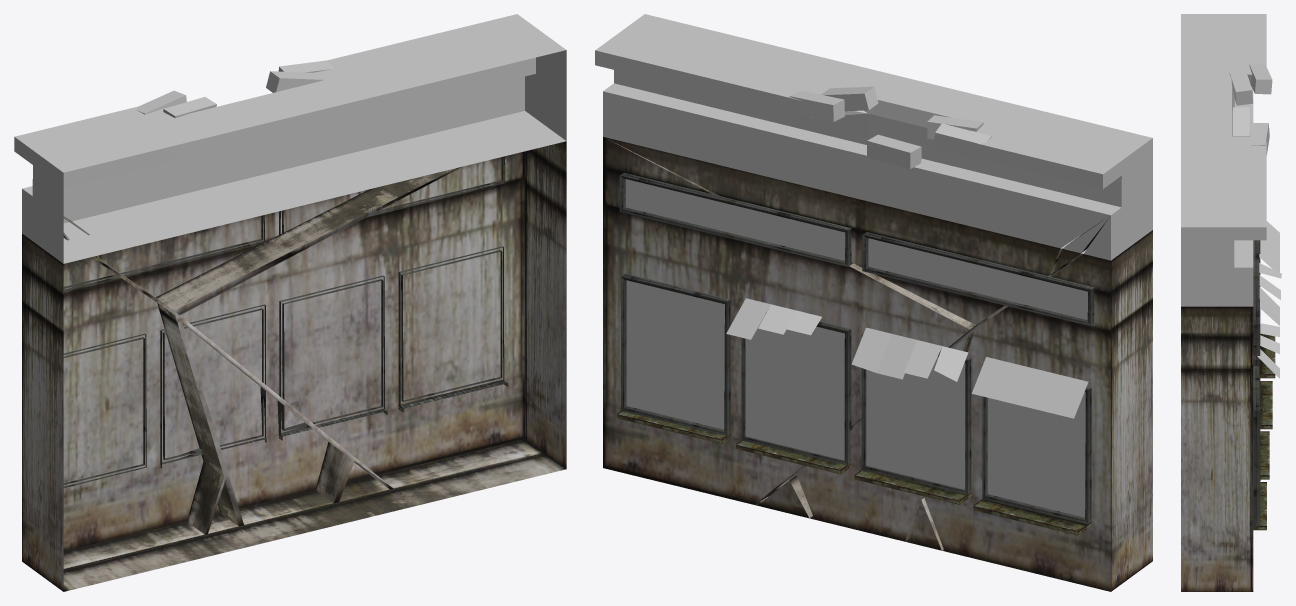
Rendered from Store_front_9_D.fbx.
The picture shows the model from 3 angles, left to right: view 1: azimuth 30°, elevation 25°; view 2: azimuth 150°, elevation 25°; view 3: azimuth 270°, elevation 25°; orthographic projection. The views are drawn at different scales.
Visible parts, largest first — view 1: Store_front_9_D; view 2: Store_front_9_D; view 3: Store_front_9_D.
Boxes of the visible parts, x1,y1,x2,y2 form: Store_front_9_D: (14, 14, 566, 591); Store_front_9_D: (595, 14, 1152, 591); Store_front_9_D: (1181, 14, 1281, 591).
Size of the model in its own units: 700 by 574 by 140.
